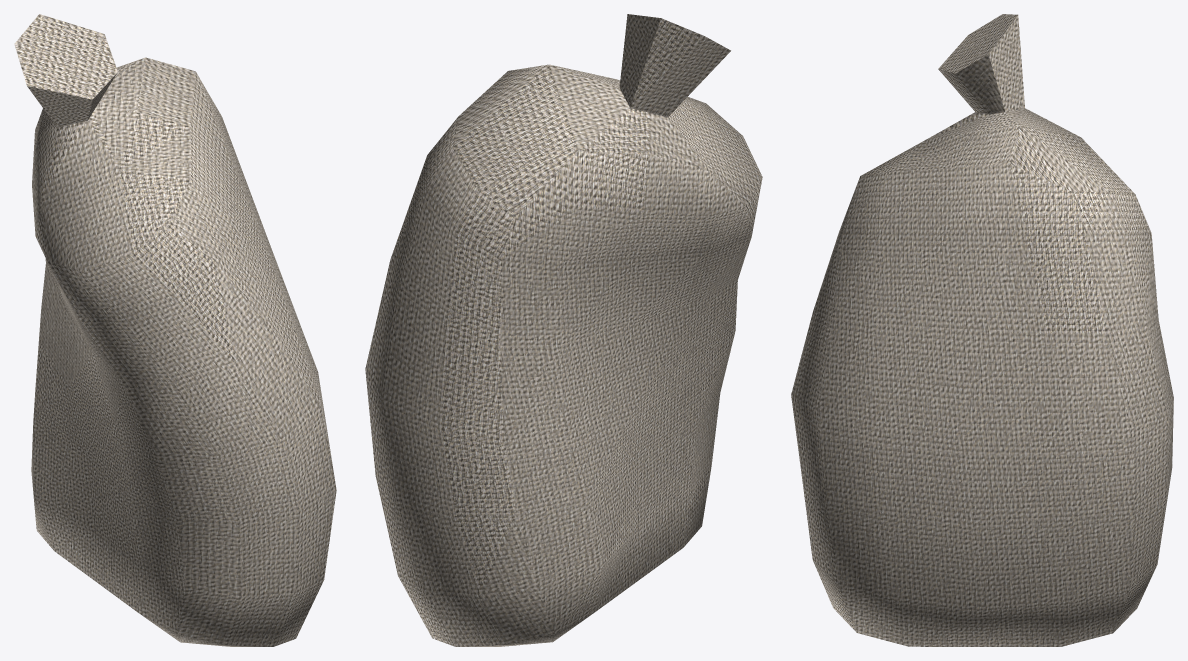
The model's file is mm_bag_2.FBX.
3 views of the same model, side by side, from view 1: azimuth 30°, elevation 25°; view 2: azimuth 150°, elevation 25°; view 3: azimuth 270°, elevation 25° (orthographic). The views are drawn at different scales.
Visible parts, largest first — view 1: bag02; view 2: bag02; view 3: bag02.
Boxes of the visible parts, bbox=[...] form: bag02: bbox=[14, 14, 336, 646]; bag02: bbox=[365, 14, 762, 646]; bag02: bbox=[791, 14, 1173, 646].
Size of the model in its own units: 34.48 by 74 by 45.93.
Materials: 1 (1 with a texture image).
